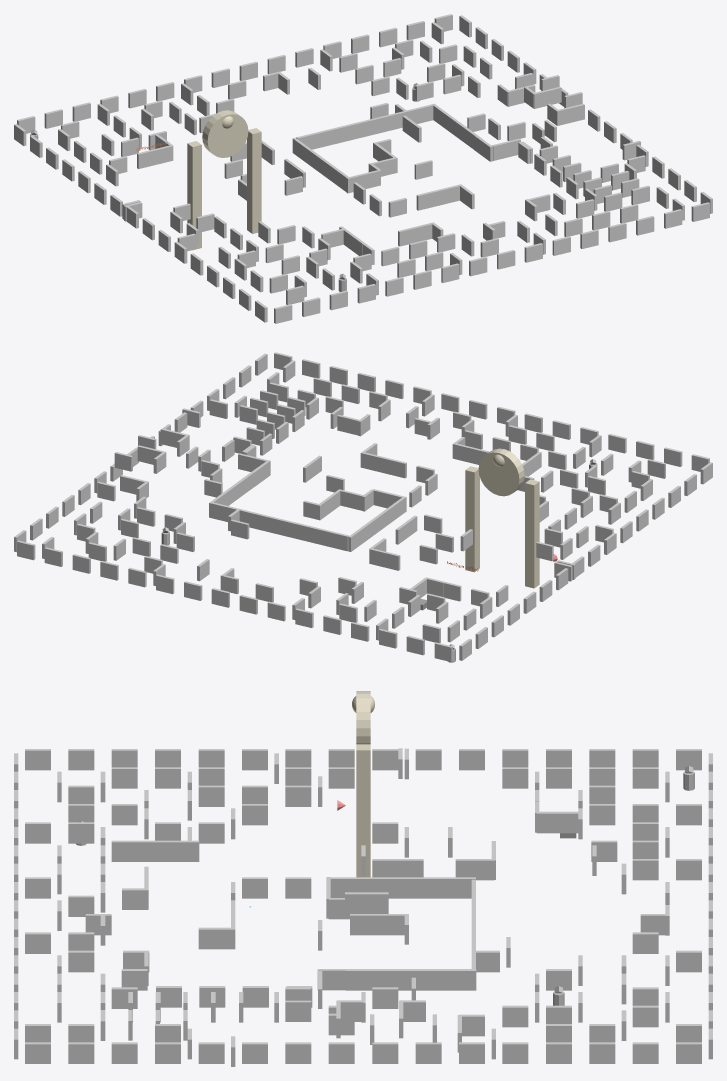
Rendered from wall.glb.
The picture shows the model from 3 angles, top to bottom: view 1: azimuth 30°, elevation 25°; view 2: azimuth 150°, elevation 25°; view 3: azimuth 270°, elevation 25°; orthographic projection. The views are drawn at different scales.
Parts seen in each view (by area): view 1: MazeWall_H_8_10, EntranceTopOrnament, EntranceRightPillar, EntranceLeftPillar, MazeWall_V_7_10, MazeWall_H_8_7, MazeWall_H_8_5; view 2: MazeWall_H_8_10, EntranceTopOrnament, EntranceLeftPillar, EntranceRightPillar, MazeWall_V_7_10, MazeWall_H_5_11, MazeWall_H_8_5; view 3: MazeWall_V_7_10, EntranceRightPillar, MazeWall_V_12_8, MazeWall_V_5_5, MazeWall_V_4_12, MazeWall_V_9_8, MazeWall_V_10_7, EntranceTopOrnament, MazeWall_V_12_10, MazeWall_V_11_1, MazeWall_V_14_11, MazeWall_V_14_14 (+32 smaller).
Part boxes in pixels (left/top/right/bottom): MazeWall_H_8_10: left=296, top=103, right=435, bottom=149; EntranceTopOrnament: left=202, top=110, right=248, bottom=157; EntranceRightPillar: left=247, top=128, right=261, bottom=233; EntranceLeftPillar: left=187, top=141, right=201, bottom=249; MazeWall_V_7_10: left=292, top=137, right=339, bottom=185; MazeWall_H_8_7: left=346, top=169, right=380, bottom=193; MazeWall_H_8_5: left=416, top=188, right=446, bottom=210; MazeWall_H_8_10: left=209, top=502, right=348, bottom=551; EntranceTopOrnament: left=478, top=448, right=524, bottom=496; EntranceLeftPillar: left=525, top=479, right=539, bottom=588; EntranceRightPillar: left=465, top=466, right=479, bottom=572; MazeWall_V_7_10: left=348, top=504, right=395, bottom=551; MazeWall_H_5_11: left=369, top=548, right=400, bottom=570; MazeWall_H_8_5: left=377, top=456, right=406, bottom=478; MazeWall_V_7_10: left=354, top=877, right=475, bottom=898; EntranceRightPillar: left=356, top=744, right=370, bottom=877; MazeWall_V_12_8: left=345, top=969, right=423, bottom=990; MazeWall_V_5_5: left=137, top=840, right=199, bottom=861; MazeWall_V_4_12: left=536, top=811, right=580, bottom=833; MazeWall_V_9_8: left=361, top=914, right=408, bottom=935; MazeWall_V_10_7: left=345, top=892, right=388, bottom=913; EntranceTopOrnament: left=352, top=691, right=374, bottom=744; MazeWall_V_12_10: left=431, top=969, right=476, bottom=990; MazeWall_V_11_1: left=68, top=950, right=94, bottom=972; MazeWall_V_14_11: left=502, top=1005, right=528, bottom=1027; MazeWall_V_14_14: left=632, top=1005, right=658, bottom=1027.
Size of the model in its own units: 24.43 by 7.81 by 24.15.
